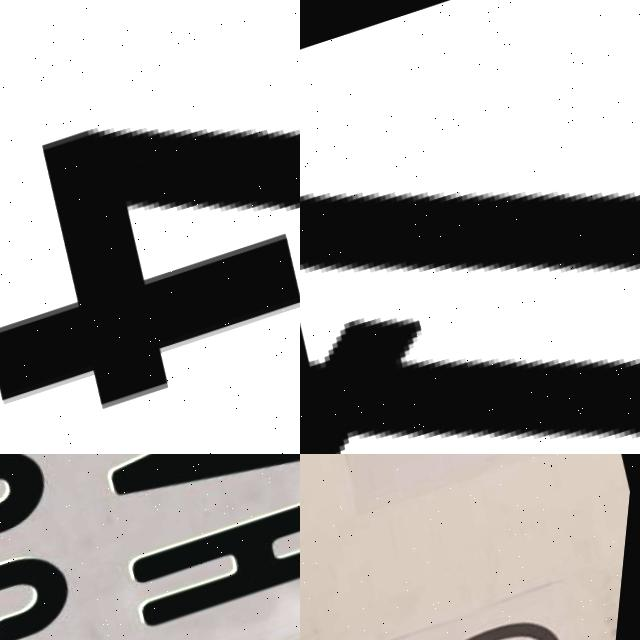0: (416, 603, 599, 640)
9: (0, 454, 71, 596)
C: (0, 542, 97, 640)
H: (129, 484, 300, 636)
Q: (300, 33, 640, 454)
V: (109, 454, 300, 528)
